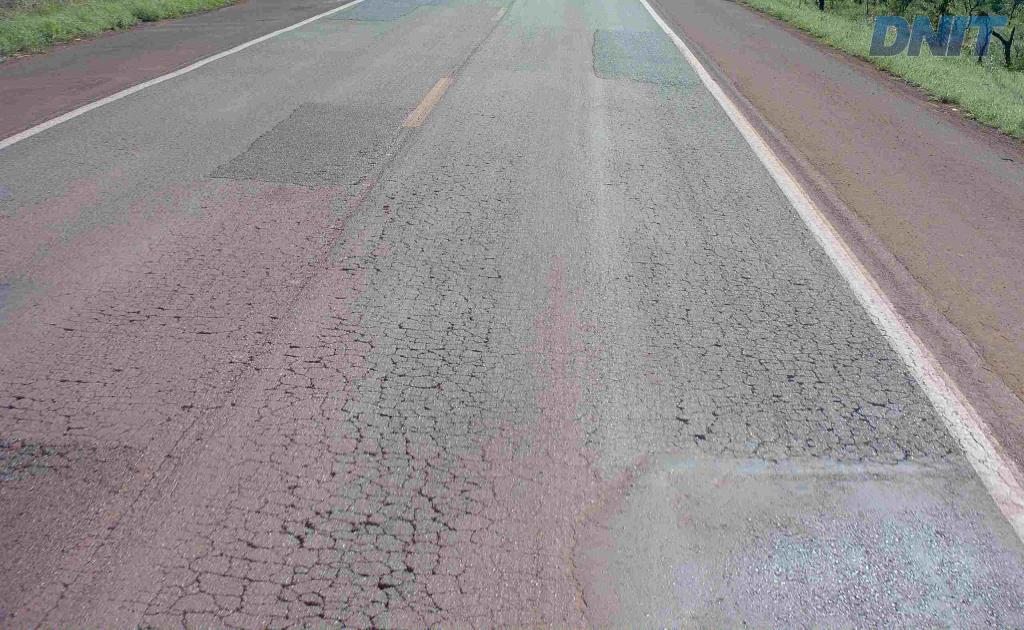crack: (295, 588, 348, 628), (370, 572, 406, 612)
